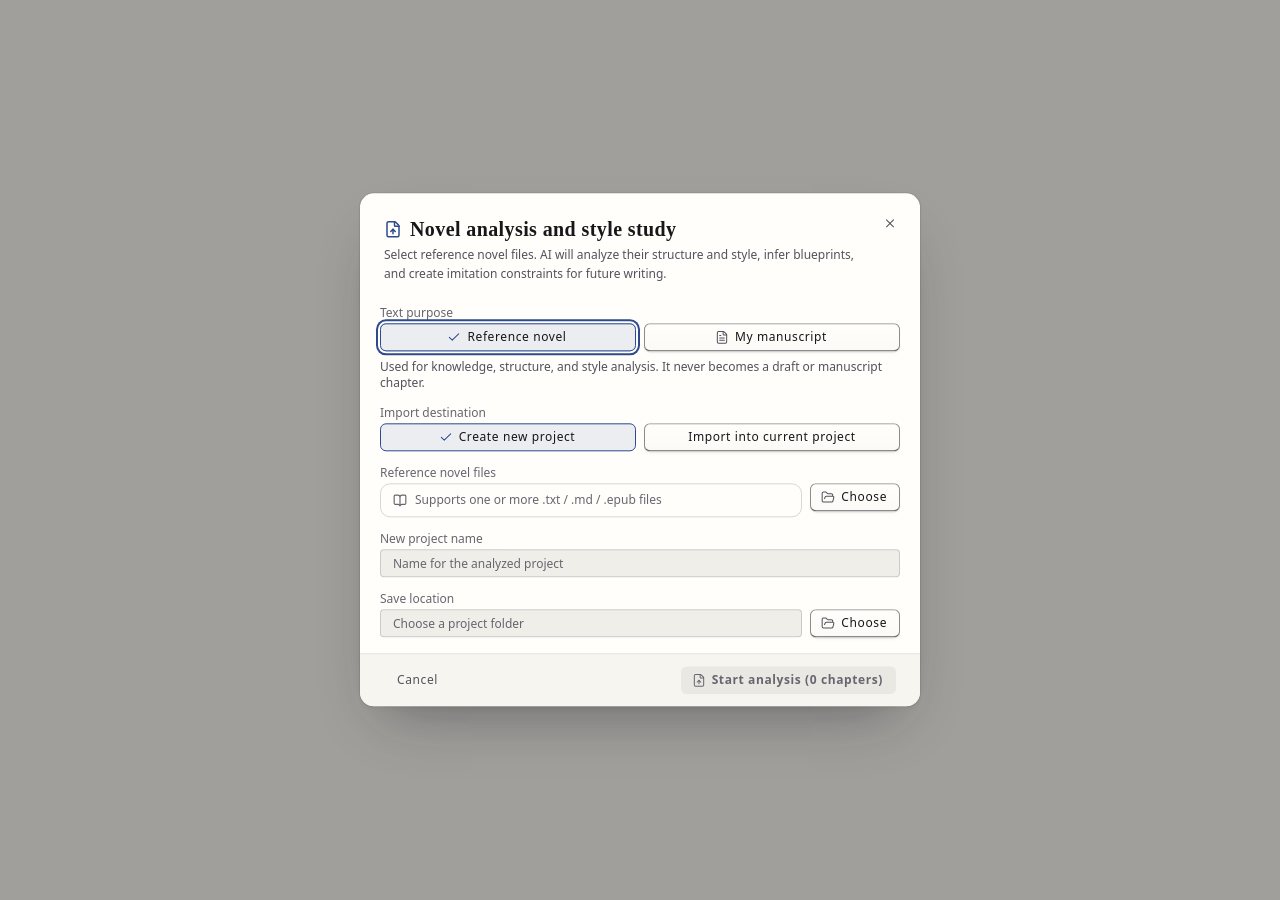
Test: current-project reference import › explains a registered code thrown by file selection in en-US instead of the raw IPC error (#484)
Click the button with test id "import-target-current" at (772, 438), box [644,424,900,452]
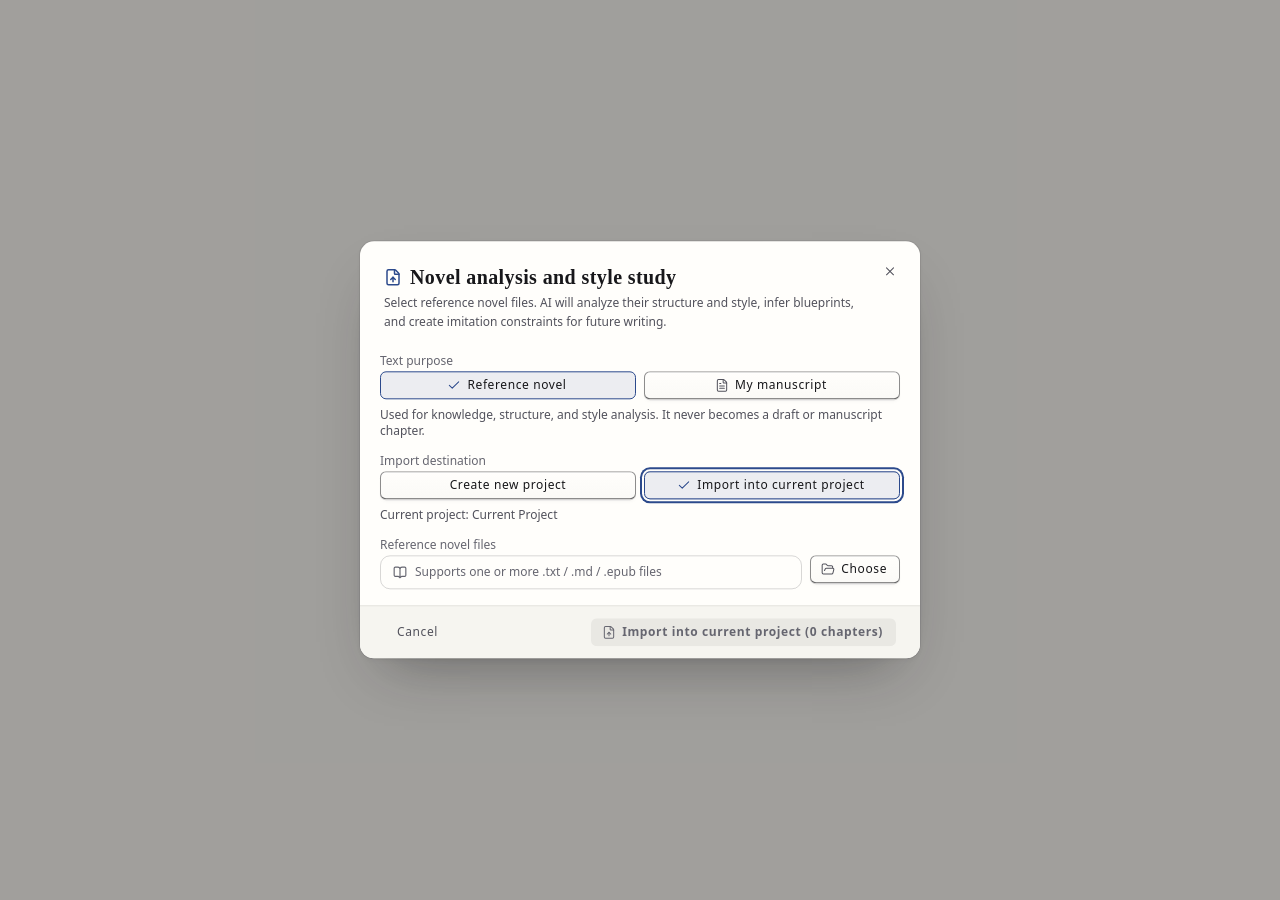
Click the button "Choose" at (855, 570), box [810,556,900,584]
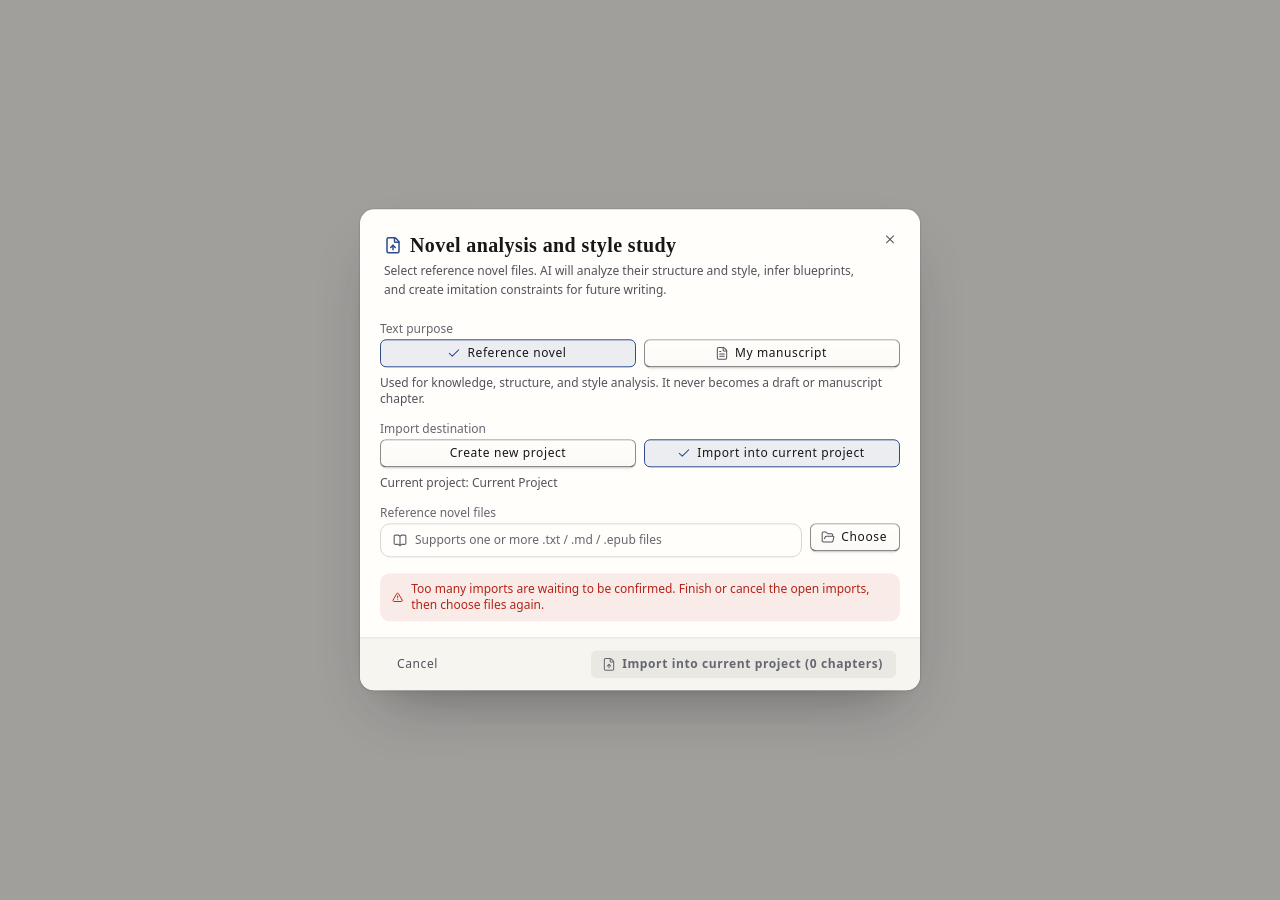
Result: the text "Too many imports are waiting to be confirmed. Finish or cancel the open imports, then choose files again." is shown at [411,581,870,614]
